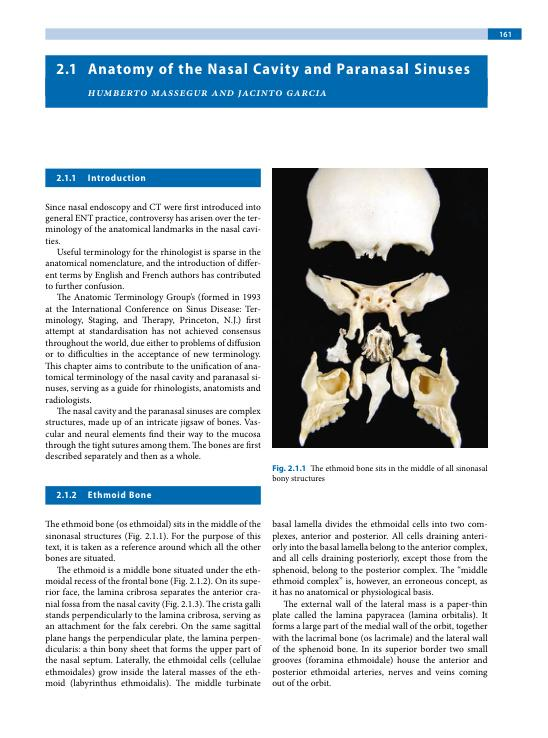caption: (271, 463, 489, 484)
chapter-heading: (87, 62, 471, 79)
image: (271, 167, 489, 449)
section-heading: (86, 490, 152, 500), (87, 173, 147, 183)
text: (44, 201, 262, 463), (44, 519, 263, 689), (270, 518, 489, 687)
